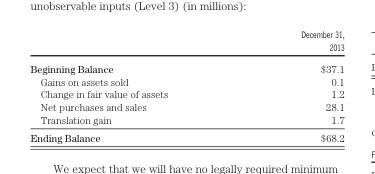table: (29, 29, 343, 143)
table column: (29, 29, 233, 143), (233, 29, 343, 143)
table column header: (29, 29, 343, 57)
table row: (29, 29, 343, 57), (29, 57, 343, 74), (29, 113, 343, 128), (29, 128, 343, 143), (29, 74, 343, 87), (29, 87, 343, 100), (29, 100, 343, 113)
